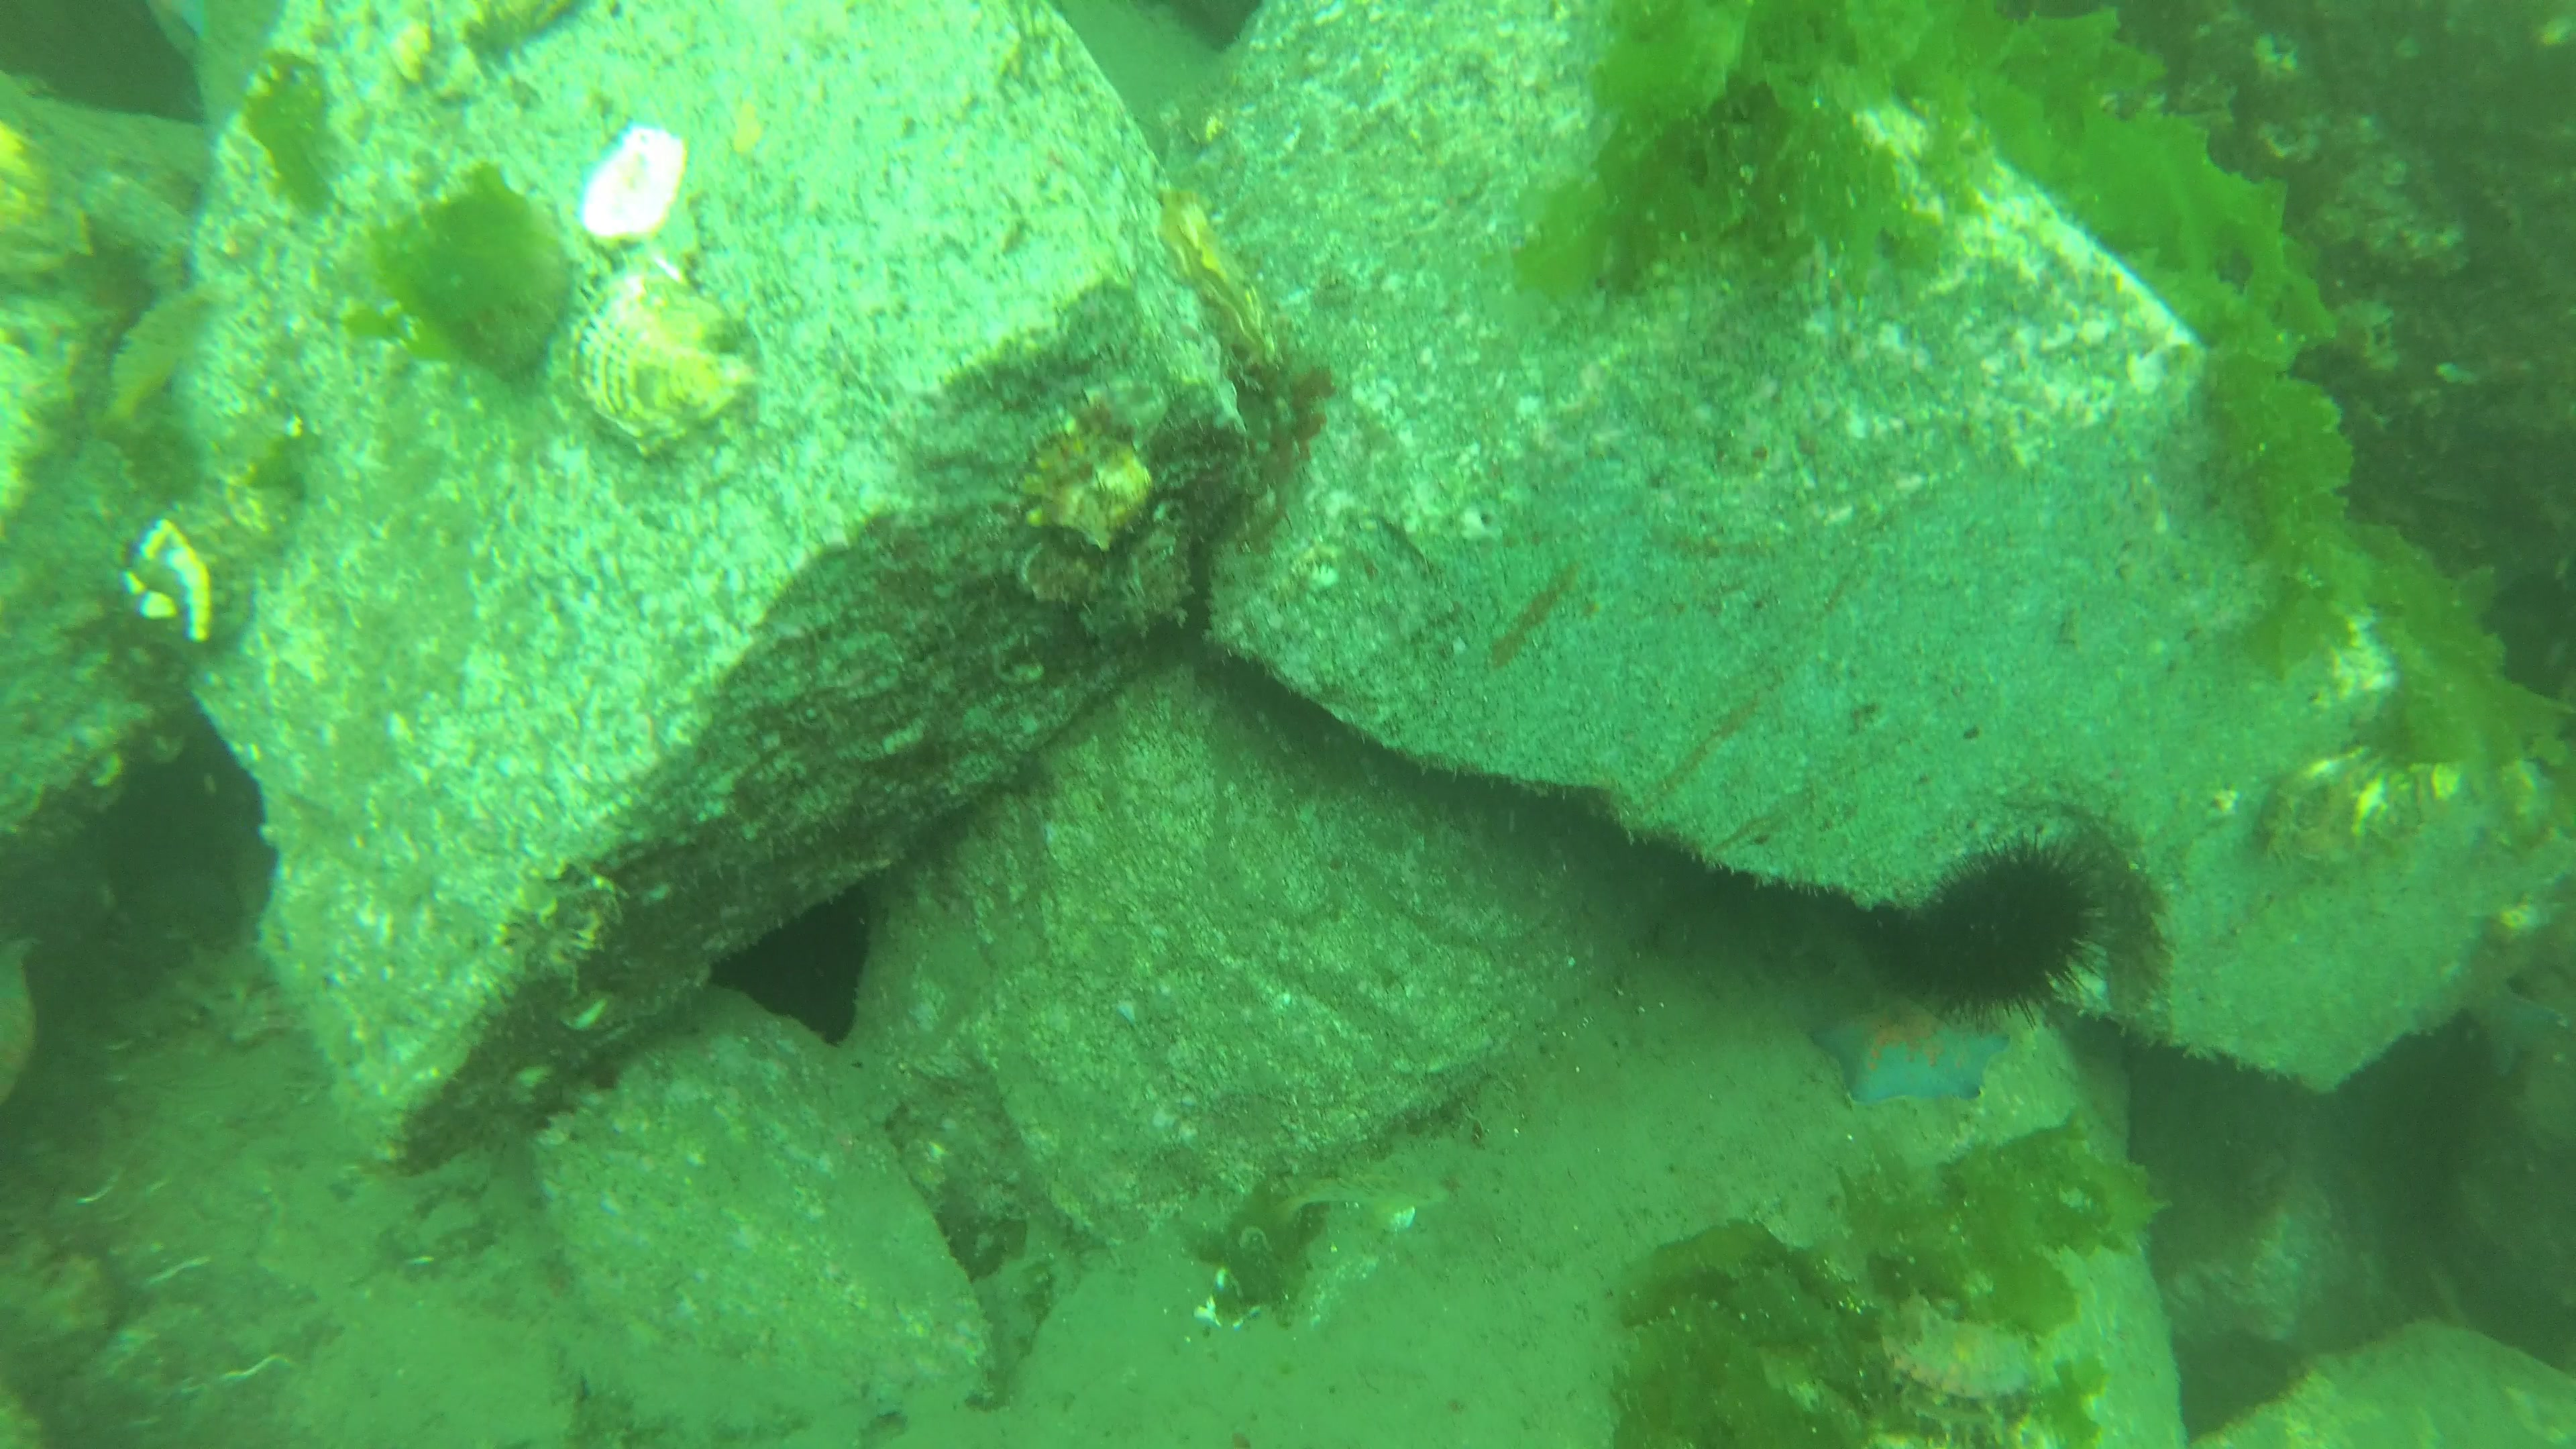echinus: (1898, 824, 2107, 1035)
starfish: (1812, 1000, 2006, 1116)
